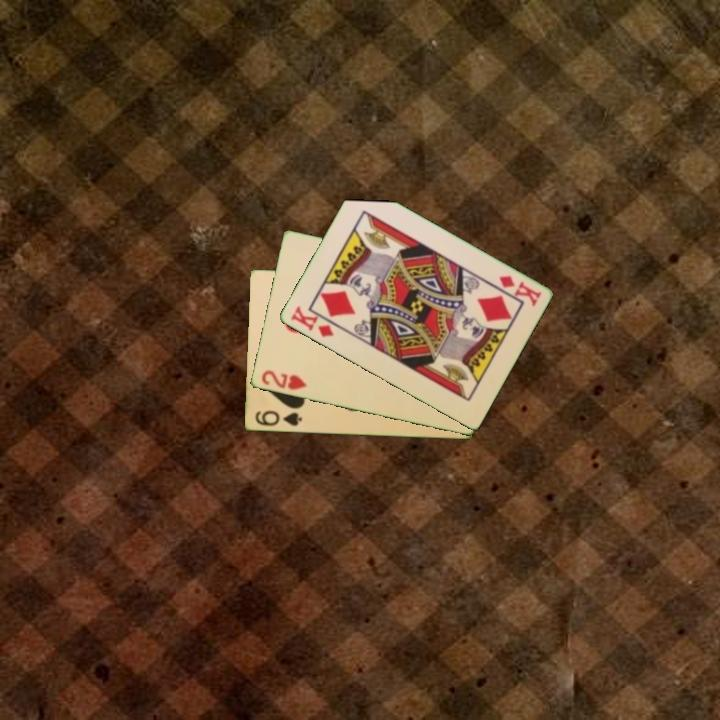2h: (258, 367, 310, 393)
6s: (252, 407, 305, 429)
Kd: (286, 302, 336, 340), (495, 272, 544, 309)
